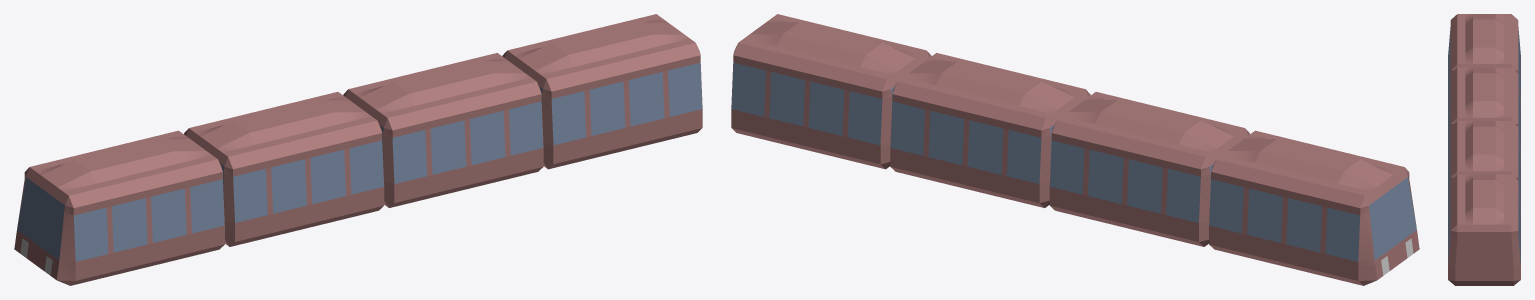
Rendered from Train.fbx.
The picture shows the model from 3 angles, left to right: view 1: azimuth 30°, elevation 25°; view 2: azimuth 150°, elevation 25°; view 3: azimuth 270°, elevation 25°; orthographic projection. The views are drawn at different scales.
Visible parts, largest first — view 1: Train1; view 2: Train1; view 3: Train1.
Part boxes in pixels (<box>): Train1: <box>14,14,702,285</box>; Train1: <box>731,14,1419,285</box>; Train1: <box>1448,14,1520,285</box>.
Bounding box in the file's own units: 22.58 × 3.25 × 3.22.
